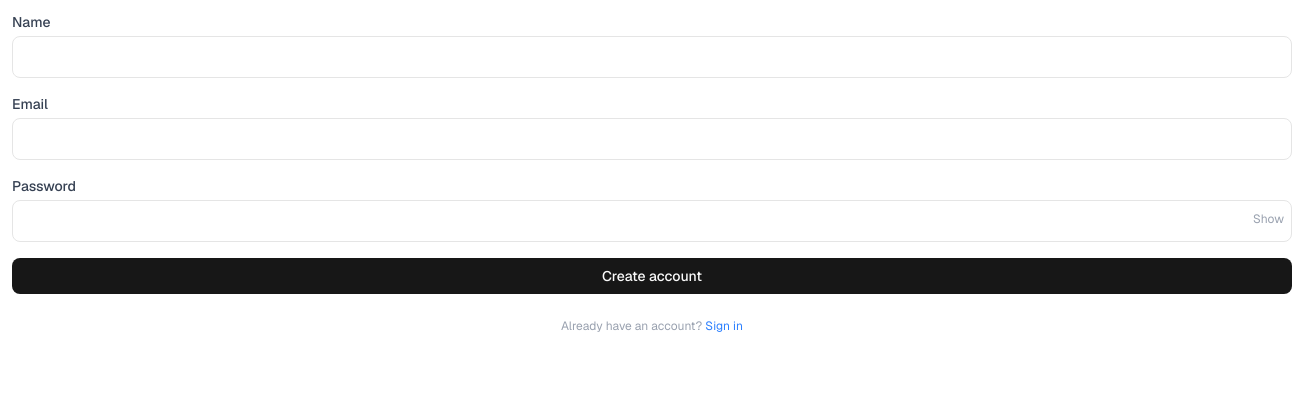
Test: RegisterForm › shows error when sign-in fails after registration
Type "John" into the field below "Name". click: coordinates (652, 57)
box: x1=12 y1=36 x2=1292 y2=78
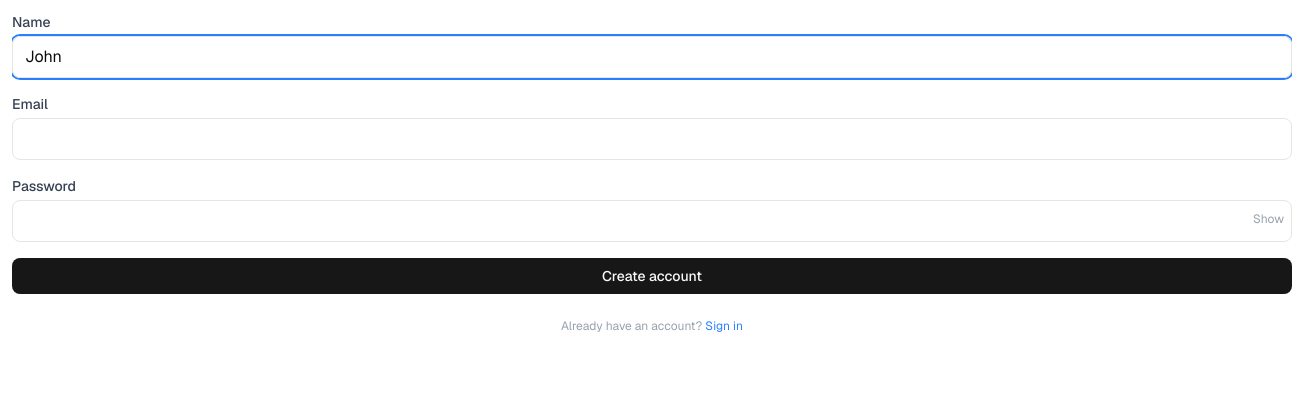
Type "john@test.com" into the field below "Email". click: coordinates (652, 139)
box: x1=12 y1=118 x2=1292 y2=160
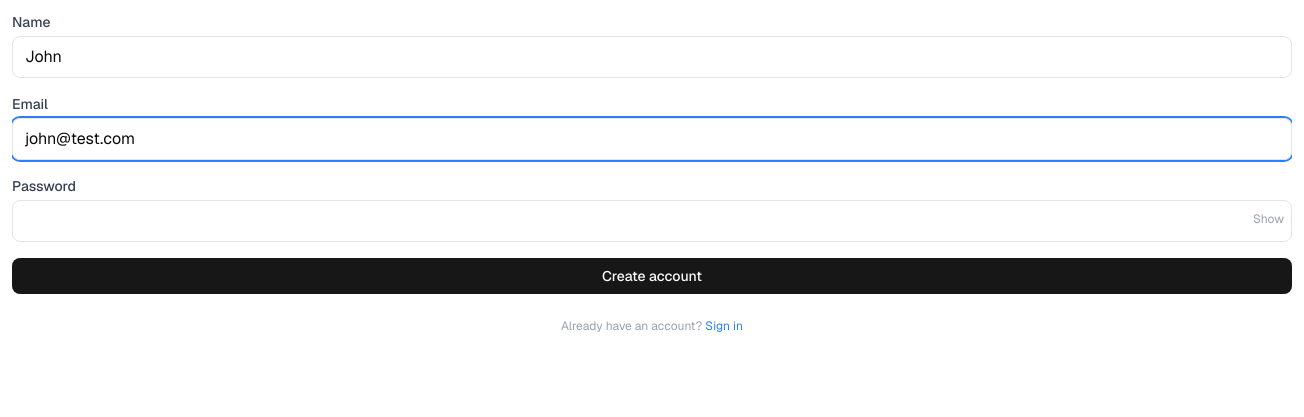
Type "password123" into the password field. click: coordinates (652, 221)
box: x1=12 y1=200 x2=1292 y2=242
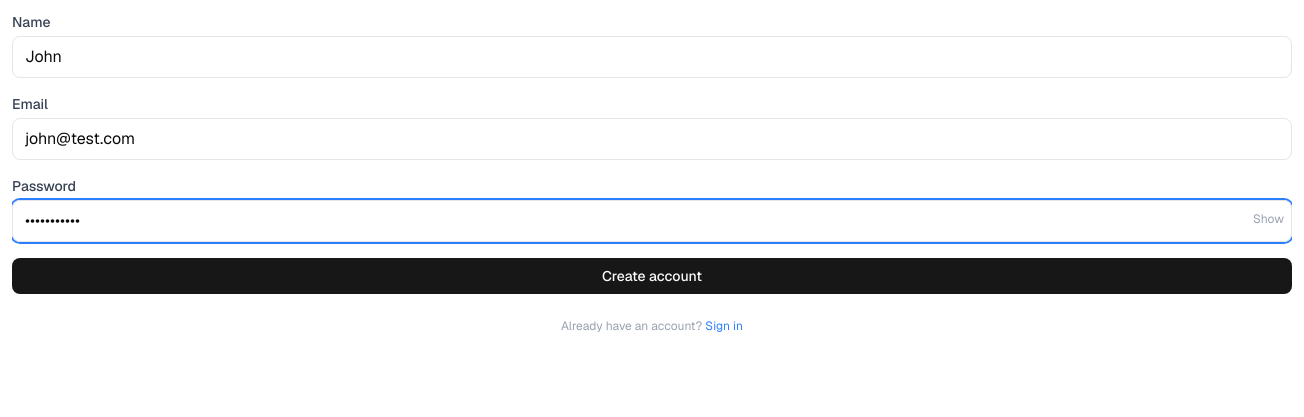
Click the button "Create account". click: coordinates (652, 276)
box: x1=12 y1=258 x2=1292 y2=294
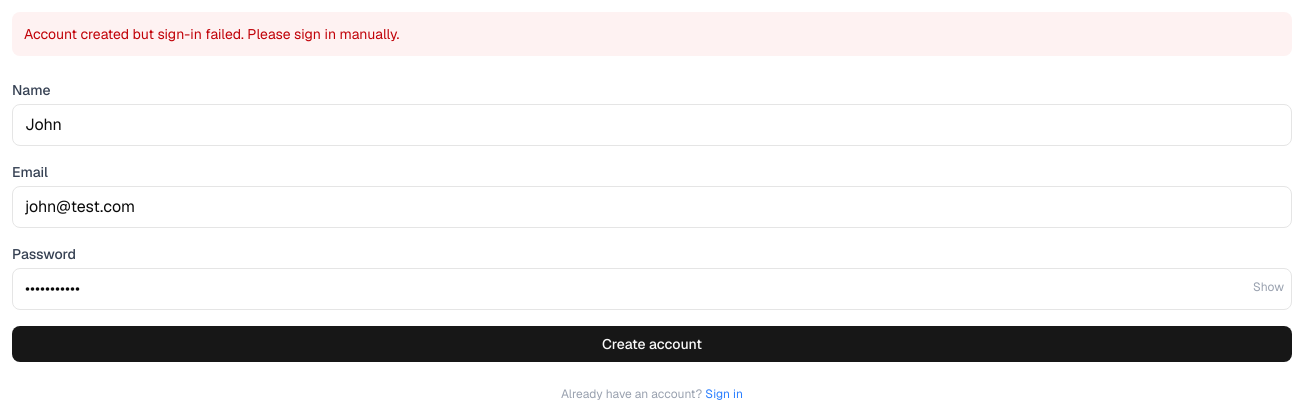
Expected: the text "Account created but sign-in failed. Please sign in manually." is shown, x1=12 y1=12 x2=1292 y2=56
